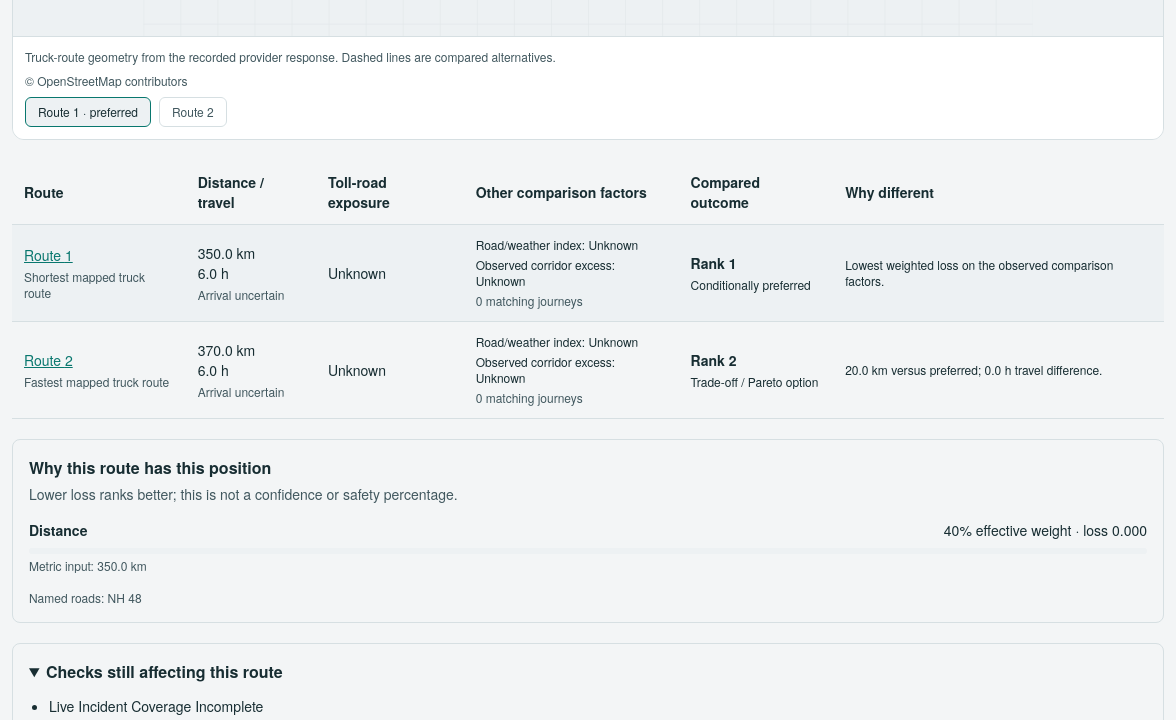
state-wise freight route comparison › shows actual routes, alternatives, reasons, and missing evidence without a safety score
(page scrolled)
Expected: the table named "Freight route alternatives" shows "20.0 km versus preferred", 845,361 -> 1102,378
Expected: the column heading "Distance / travel" is shown, 186,160 -> 316,224
Click the button "Route 2" next to "370.0".
click(48, 360)  # box 24,350 -> 73,370
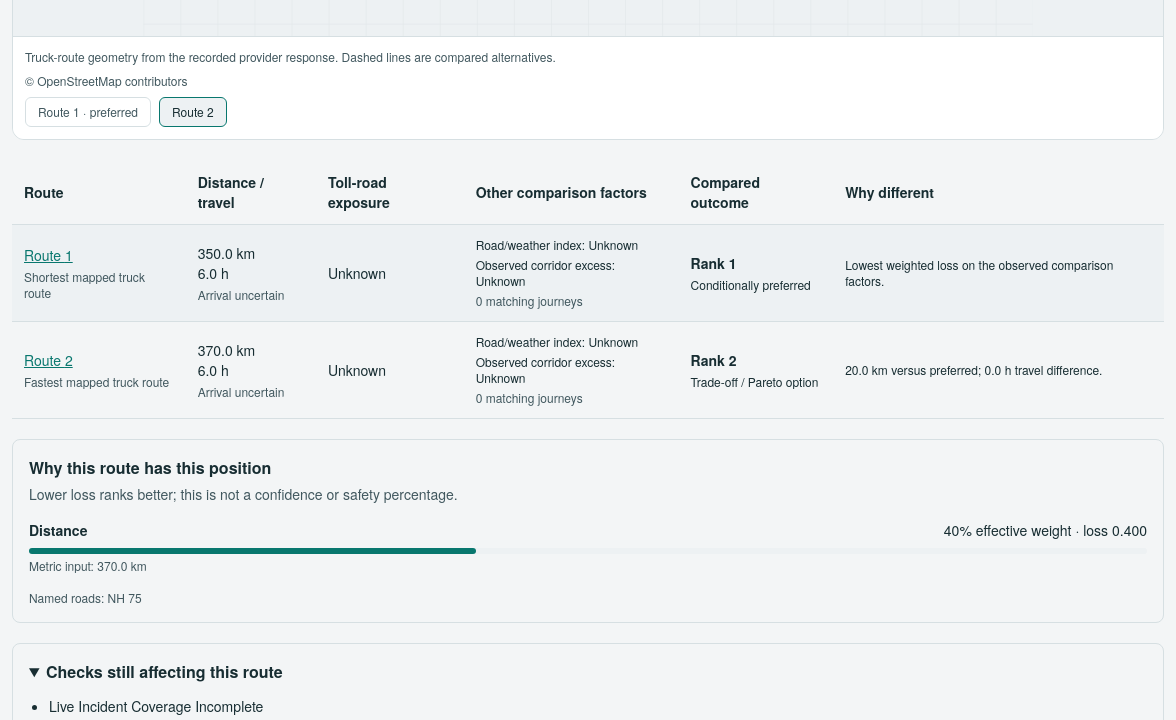
Expected: the text "Named roads: NH 75" is shown, 29,589 -> 142,606
